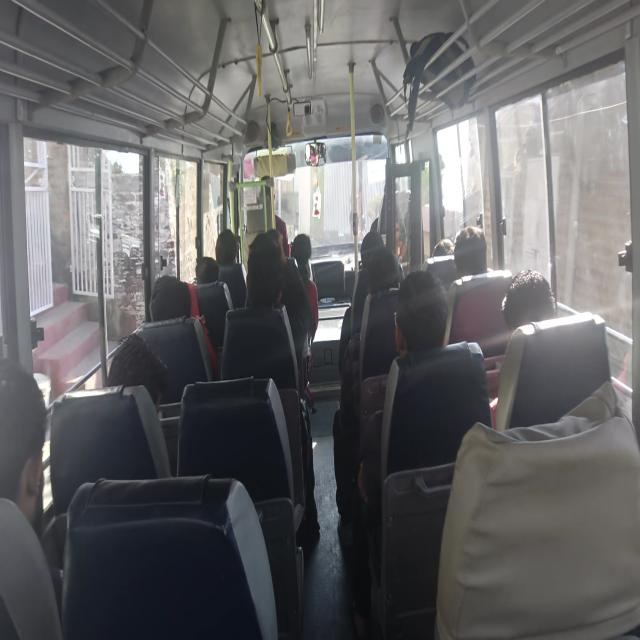person: (0, 357, 57, 520), (382, 262, 454, 354), (494, 268, 565, 344), (100, 327, 172, 400), (241, 233, 283, 315), (144, 268, 198, 327), (452, 227, 488, 275), (210, 216, 242, 266), (368, 252, 399, 300), (361, 222, 393, 266), (288, 230, 318, 274), (429, 225, 458, 266), (194, 251, 221, 295), (256, 167, 279, 210), (383, 171, 409, 206), (263, 227, 288, 253)
